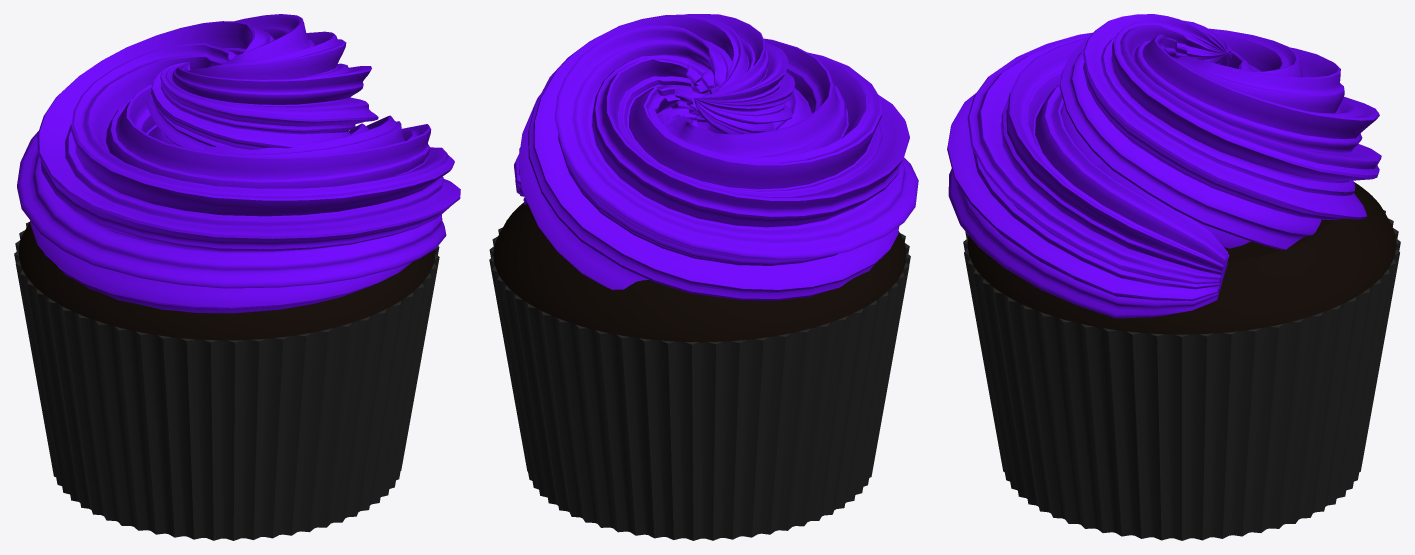
File: cupcake.FBX
3 views of the same model, side by side, from view 1: azimuth 30°, elevation 25°; view 2: azimuth 150°, elevation 25°; view 3: azimuth 270°, elevation 25° (orthographic). The views are drawn at different scales.
Visible parts, largest first — view 1: Cylinder020; view 2: Cylinder020; view 3: Cylinder020.
Part boxes in pixels (bbox=[...]): Cylinder020: bbox=[14, 14, 460, 540]; Cylinder020: bbox=[489, 14, 918, 540]; Cylinder020: bbox=[947, 14, 1400, 540].
Size of the model in its own units: 164 by 165 by 176.
